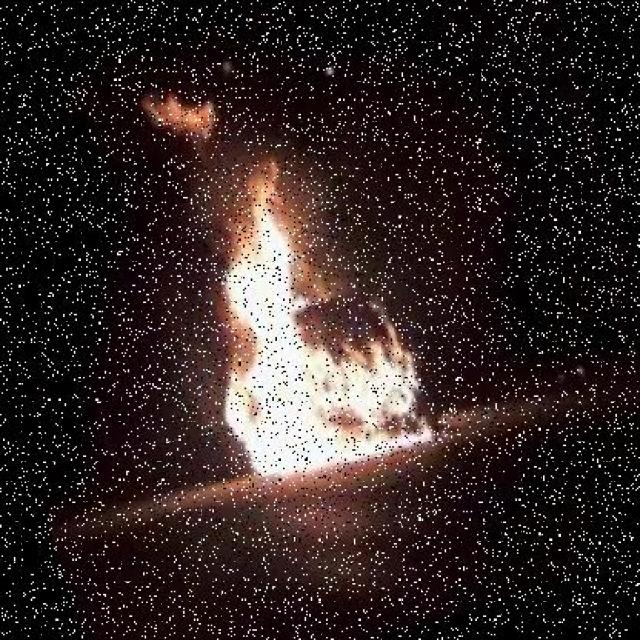fire: (152, 130, 454, 498), (120, 58, 249, 177)
